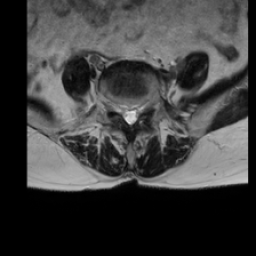CCS_normal: (126, 99, 132, 130)
LFS_normal: (140, 96, 147, 119)
LLS_normal: (132, 101, 139, 126)
RFS_normal: (112, 95, 120, 119)
RLS_normal: (120, 99, 126, 125)
